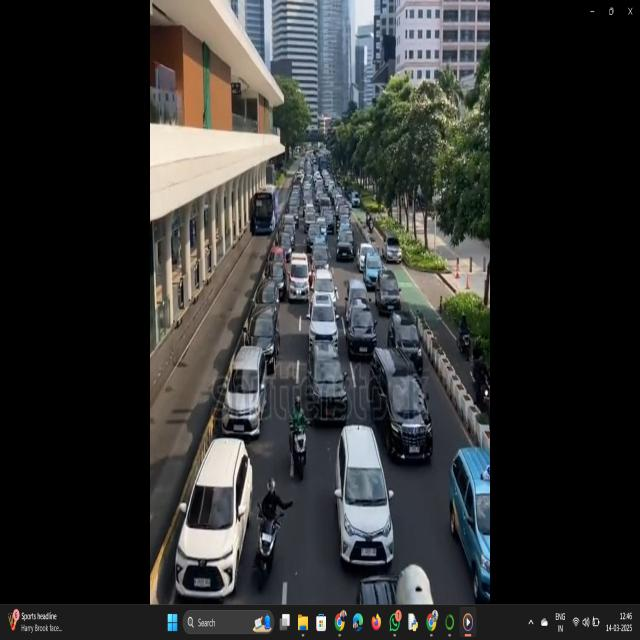Ambulance: (286, 249, 314, 308)
